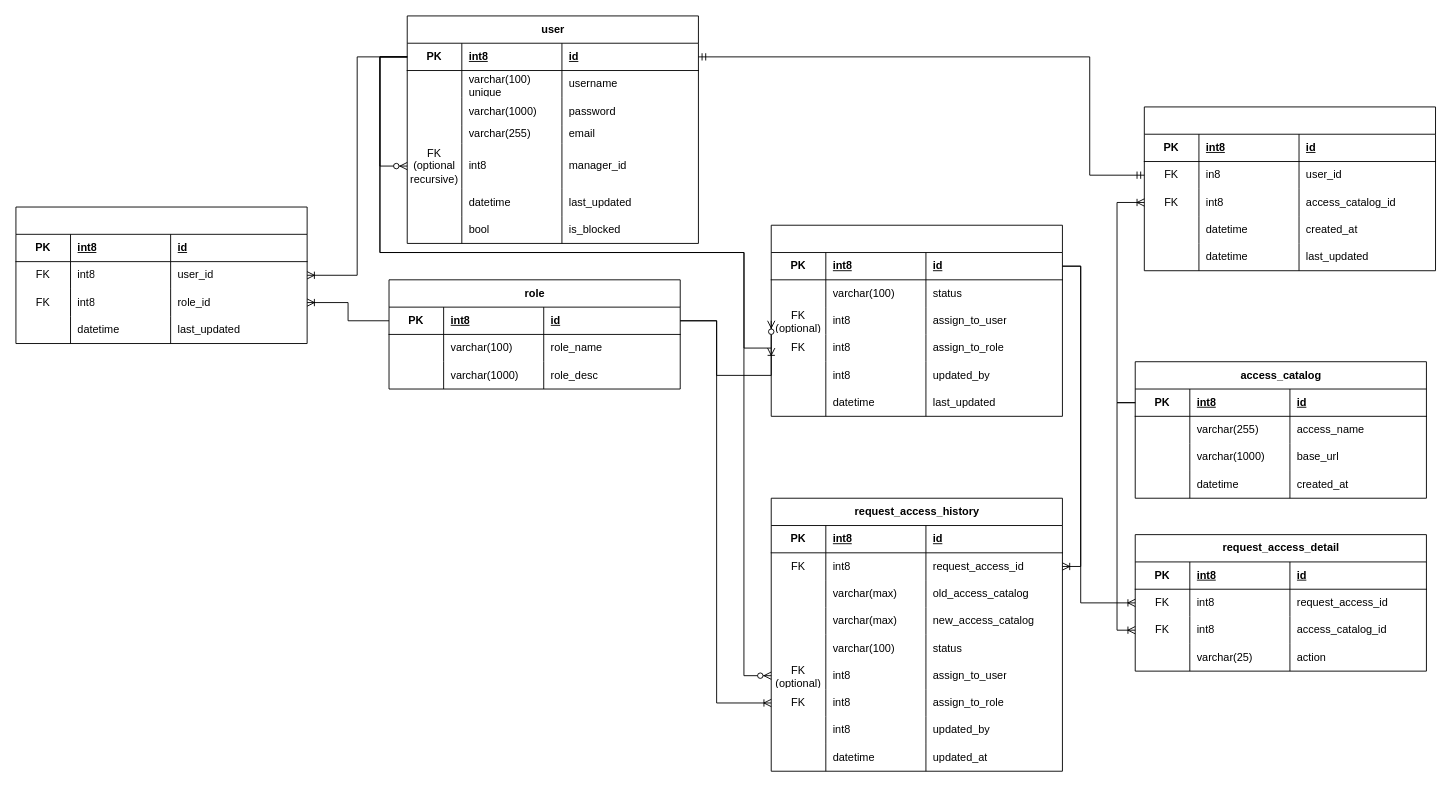
This 1451x787 diagram has some shape labels left out. Each missing label, with the box of its shape:
request_access: (770, 224, 1062, 416)
user_access: (1143, 106, 1436, 271)
user_role: (15, 206, 307, 344)
